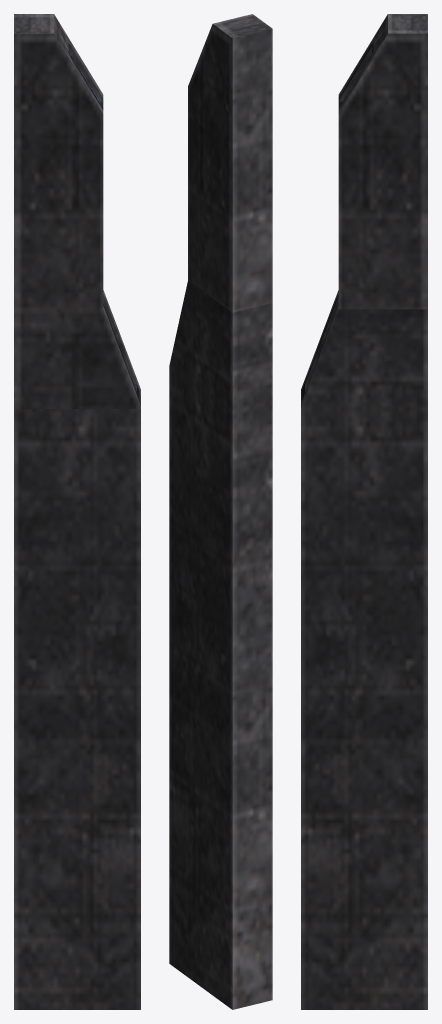
3 renders of one model, left to right at view 1: azimuth 90°, elevation 25°; view 2: azimuth 210°, elevation 25°; view 3: azimuth 270°, elevation 25°, orthographic.
Parts seen in each view (by area): view 1: a104; view 2: a104; view 3: a104.
Boxes of the visible parts, box(x1,y1,x2,y2) form: a104: box(14, 14, 140, 1009); a104: box(169, 14, 272, 1009); a104: box(301, 14, 427, 1009).
Bounding box in the file's own units: 47.68 × 1105 × 130.
Materials: 1 (1 with a texture image).
